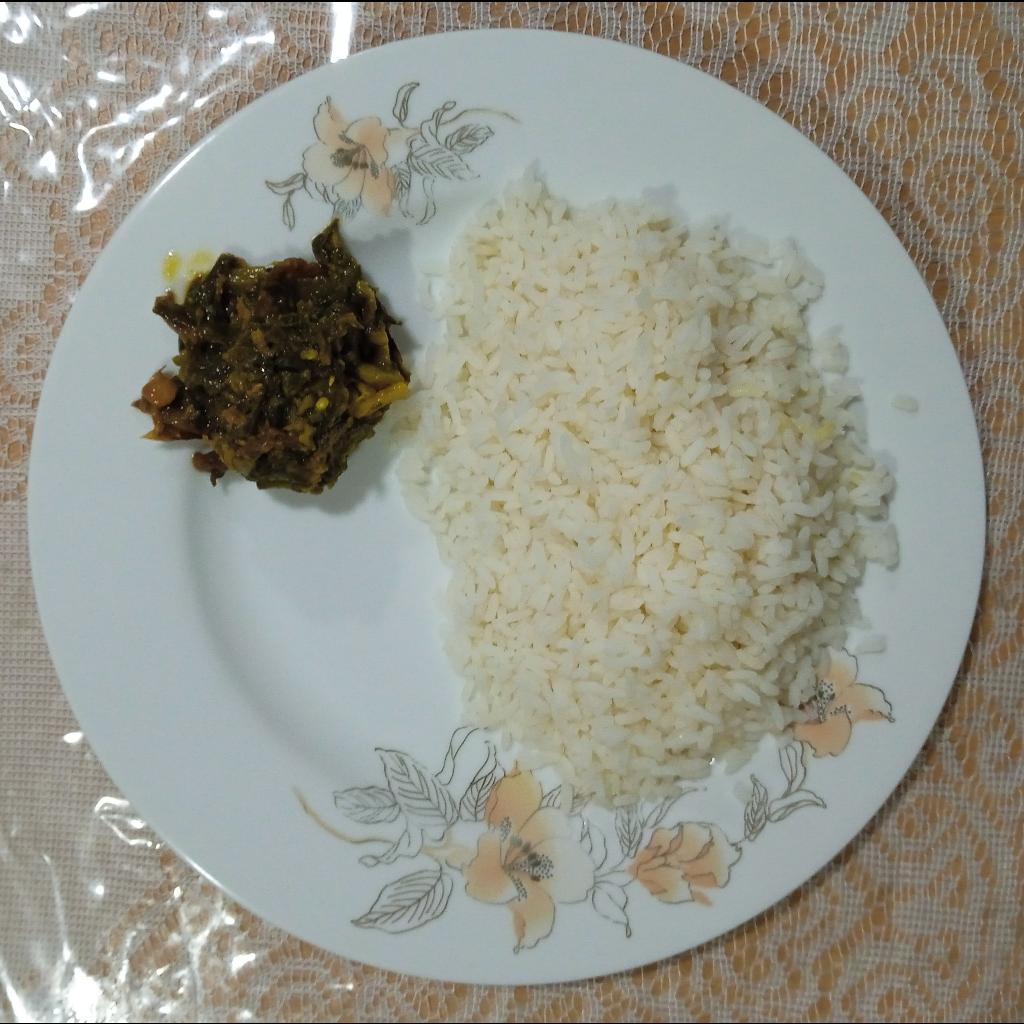rice: (391, 166, 900, 813)
shak: (135, 220, 411, 493)
